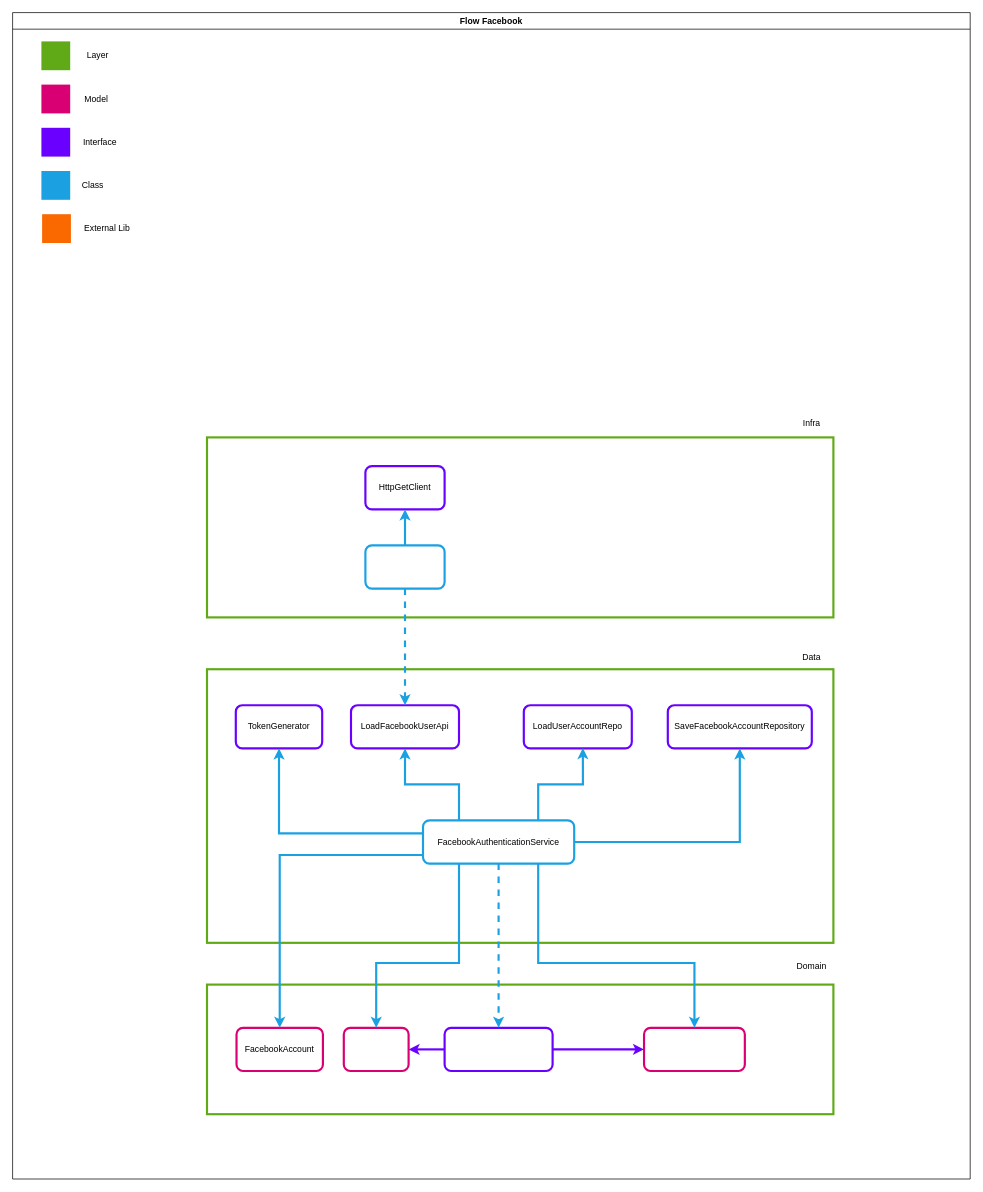
This 983x1192 diagram has some shape labels left out. Here are the shapes that lost their labels. From the top down, the box of each, then its label:
(364, 544, 445, 589): FacebookApi
(342, 1026, 409, 1072): AccessToken
(443, 1026, 553, 1072): FacebookAuthentication
(643, 1026, 746, 1072): AuthenticationError
